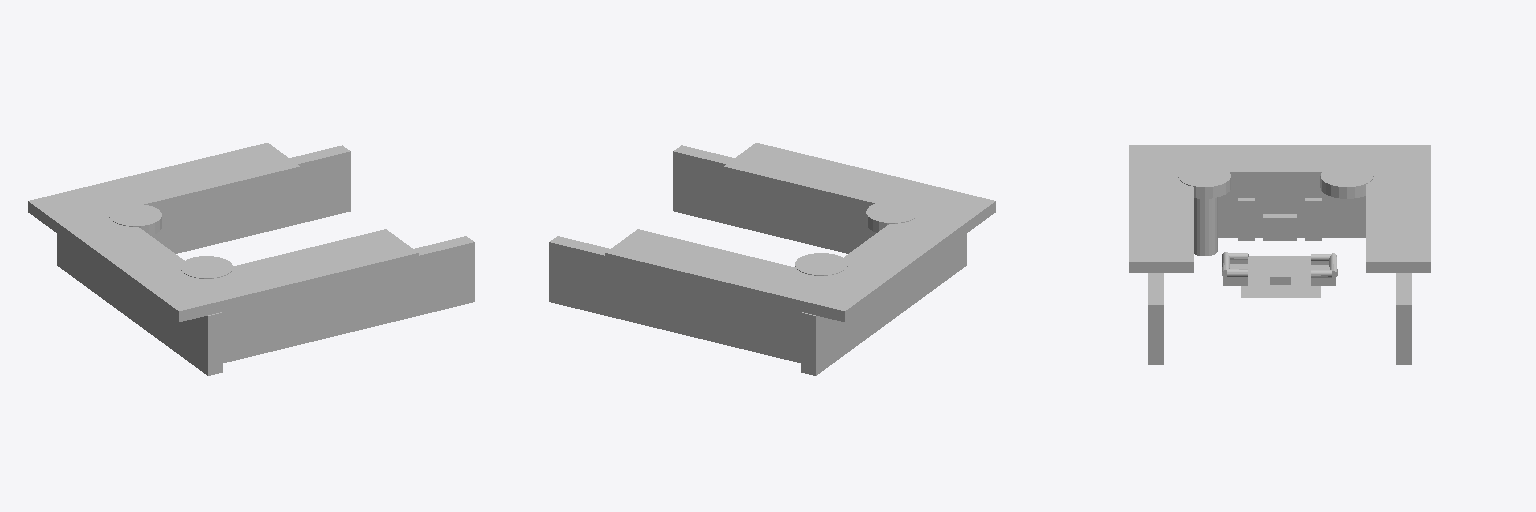
File: rough_test.obj
3 views of the same model, side by side, from view 1: azimuth 30°, elevation 25°; view 2: azimuth 150°, elevation 25°; view 3: azimuth 270°, elevation 25° (orthographic).
Parts seen in each view (by area): view 1: polySurface3 pCylinder8, pCylinder8 polySurface22, pCylinder8 polySurface2, pCylinder8 polySurface20, pCylinder8 polySurface21, pCylinder8 polySurface27, pCylinder8 polySurface1, pCylinder8 polySurface19; view 2: pCylinder8 polySurface2, pCylinder8 polySurface22, polySurface3 pCylinder8, pCylinder8 polySurface21, pCylinder8 polySurface20, pCylinder8 polySurface27, pCylinder8 polySurface19, pCylinder8 polySurface1; view 3: pCylinder8 polySurface22, pCylinder8 polySurface21, pCylinder8 polySurface20, pCylinder8 polySurface27, polySurface4, pCylinder8 polySurface1, polySurface3 pCylinder8, pCylinder8 polySurface2, pCylinder8 polySurface19, pCylinder8 polySurface24, pCylinder8 polySurface25, pCylinder8 polySurface26 (+1 smaller).
Boxes of the visible parts, x1=… form: polySurface3 pCylinder8: x1=222, y1=236, x2=474, y2=362; pCylinder8 polySurface22: x1=28, y1=187, x2=234, y2=321; pCylinder8 polySurface2: x1=152, y1=145, x2=350, y2=253; pCylinder8 polySurface20: x1=211, y1=229, x2=418, y2=308; pCylinder8 polySurface21: x1=85, y1=143, x2=299, y2=211; pCylinder8 polySurface27: x1=57, y1=234, x2=222, y2=375; pCylinder8 polySurface1: x1=109, y1=204, x2=161, y2=235; pCylinder8 polySurface19: x1=180, y1=256, x2=232, y2=278; pCylinder8 polySurface2: x1=549, y1=236, x2=801, y2=362; pCylinder8 polySurface22: x1=789, y1=187, x2=995, y2=321; polySurface3 pCylinder8: x1=673, y1=145, x2=875, y2=253; pCylinder8 polySurface21: x1=605, y1=229, x2=817, y2=308; pCylinder8 polySurface20: x1=724, y1=143, x2=938, y2=211; pCylinder8 polySurface27: x1=801, y1=234, x2=966, y2=375; pCylinder8 polySurface19: x1=866, y1=201, x2=918, y2=232; pCylinder8 polySurface1: x1=795, y1=253, x2=847, y2=275; pCylinder8 polySurface22: x1=1129, y1=145, x2=1430, y2=182; pCylinder8 polySurface21: x1=1366, y1=172, x2=1430, y2=272; pCylinder8 polySurface20: x1=1129, y1=172, x2=1193, y2=272; pCylinder8 polySurface27: x1=1218, y1=183, x2=1365, y2=237; polySurface4: x1=1222, y1=252, x2=1337, y2=297; pCylinder8 polySurface1: x1=1320, y1=165, x2=1373, y2=198; polySurface3 pCylinder8: x1=1148, y1=273, x2=1163, y2=364; pCylinder8 polySurface2: x1=1396, y1=273, x2=1411, y2=364; pCylinder8 polySurface19: x1=1178, y1=165, x2=1230, y2=198; pCylinder8 polySurface24: x1=1194, y1=197, x2=1217, y2=255; pCylinder8 polySurface25: x1=1263, y1=214, x2=1296, y2=240; pCylinder8 polySurface26: x1=1305, y1=198, x2=1321, y2=240.
Bounding box in the file's own units: 21.02 × 4.95 × 18.